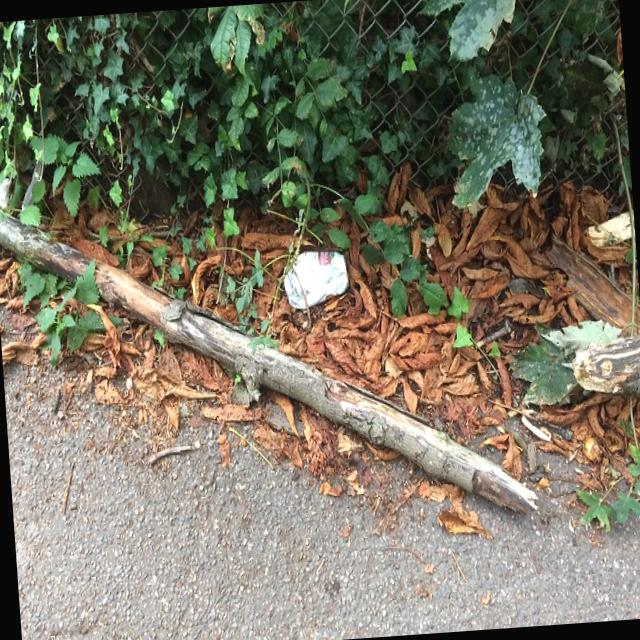Trash: (274, 246, 356, 316)
